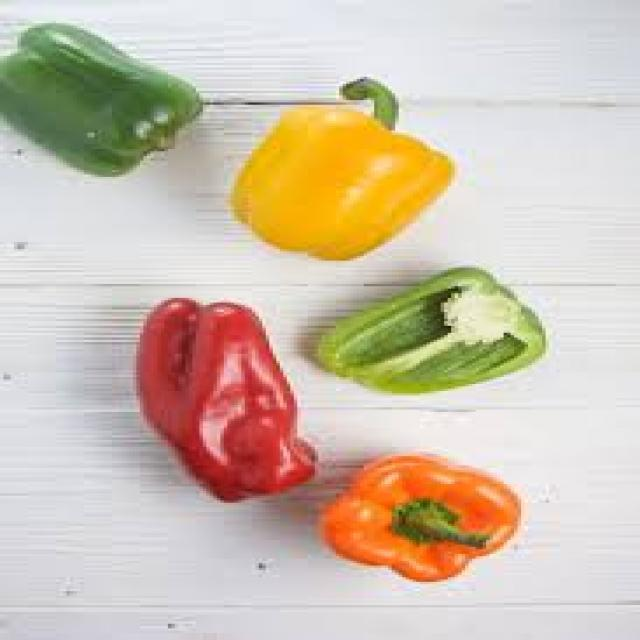Pepper: (227, 84, 458, 262), (135, 298, 318, 503), (0, 23, 205, 180), (314, 267, 550, 398), (319, 454, 526, 585)
